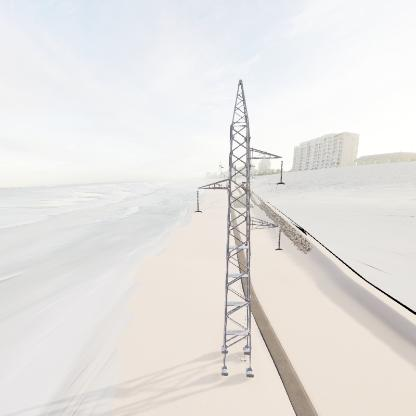tower: (192, 78, 289, 380)
